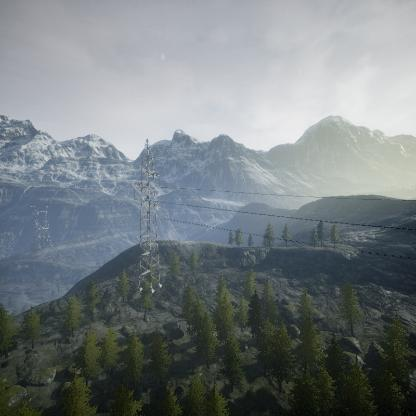tower: (129, 134, 166, 297), (30, 204, 55, 253)
